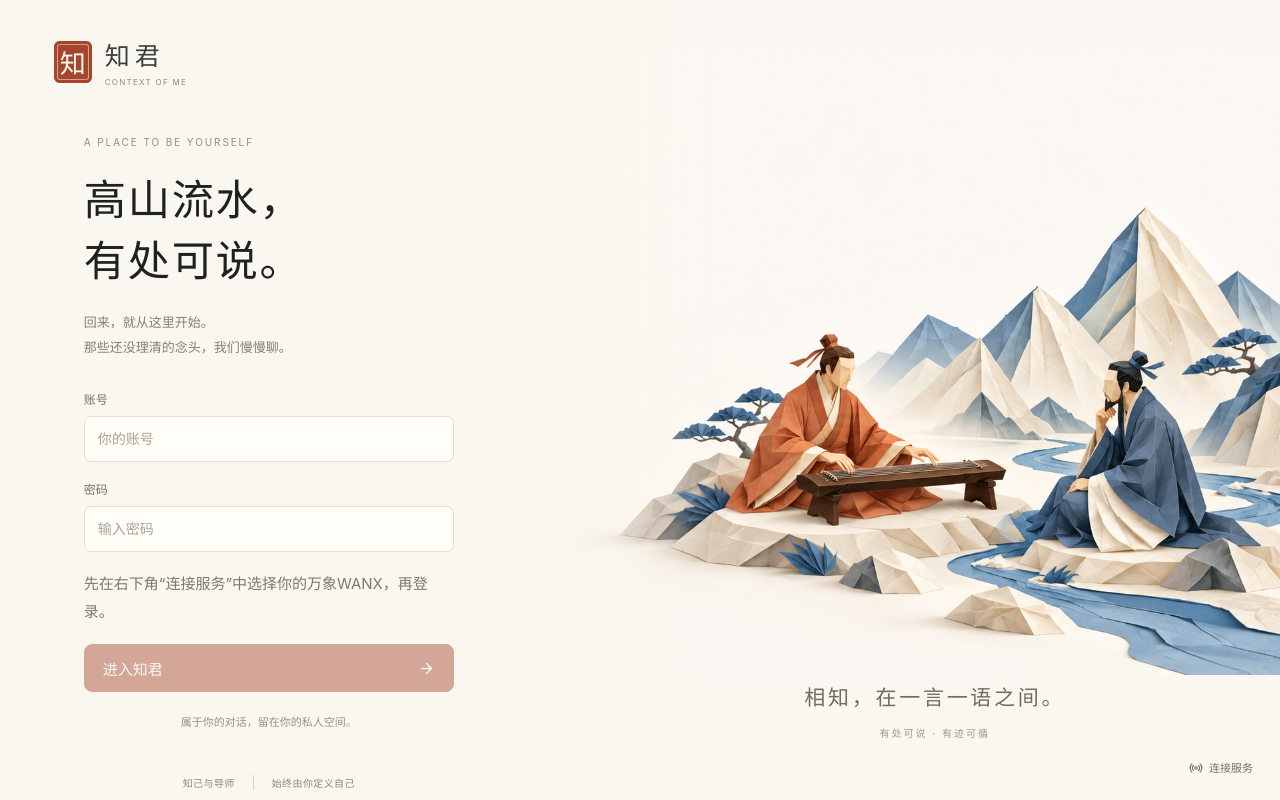
Test: shows the new login and corner connection entry on a fresh desktop, with no legacy pairing screen
Expected: the form named "登录知君" is shown, left=84, top=390, right=454, bottom=692
Expected: the text "先在右下角“连接服务”中选择你的万象WANX，再登录。" is shown, left=84, top=570, right=454, bottom=625
Click the button with aria-label "连接服务，搜索或切换 万象WANX": (1221,768) left=1180, top=750, right=1262, bottom=786
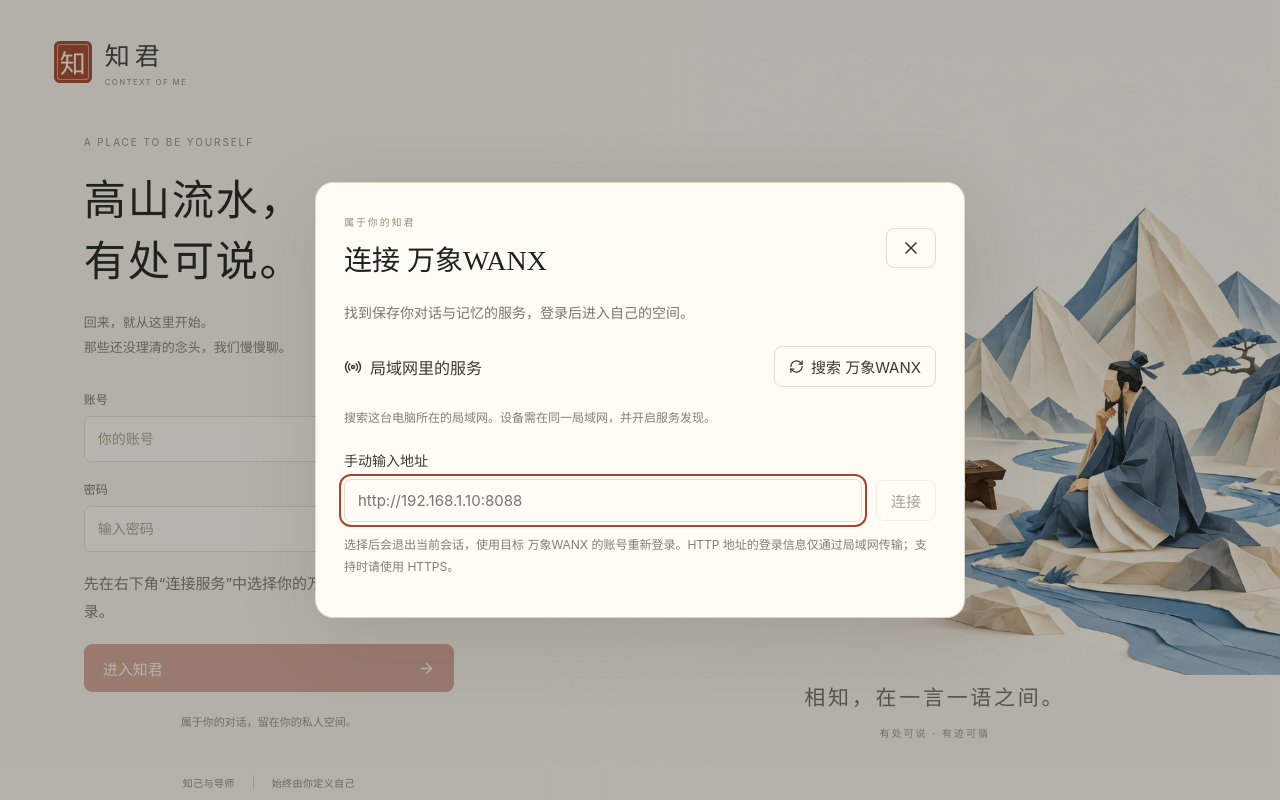
Now the text "搜索这台电脑所在的局域网。设备需在同一局域网，并开启服务发现。" is shown, box left=344, top=410, right=716, bottom=425
Now the button "搜索 万象WANX" is shown, box left=774, top=346, right=936, bottom=387
Now the field labelled "手动输入地址" is shown, box left=344, top=479, right=862, bottom=522
